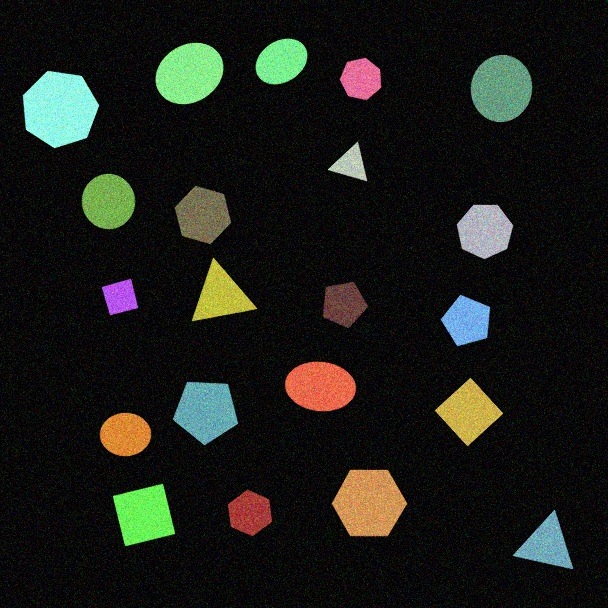Circulo: (470, 54, 533, 123), (81, 173, 136, 230), (99, 412, 152, 457)
Elipse: (155, 42, 224, 105), (284, 361, 357, 412), (255, 38, 308, 85)
Heptagono: (22, 70, 100, 149), (456, 204, 514, 260), (339, 57, 382, 101)
Hexagono: (331, 469, 408, 537), (174, 185, 232, 245), (227, 489, 273, 537)
Pentagono: (172, 381, 239, 446), (440, 294, 491, 347), (322, 281, 369, 329)
Quadrado: (434, 377, 504, 447), (112, 483, 176, 547), (101, 278, 139, 316)
Triangulo: (191, 258, 258, 322), (512, 510, 574, 570), (328, 141, 368, 182)
